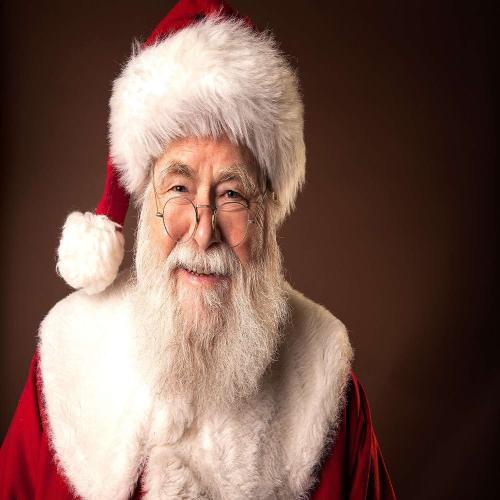Santa: (0, 2, 395, 499)
